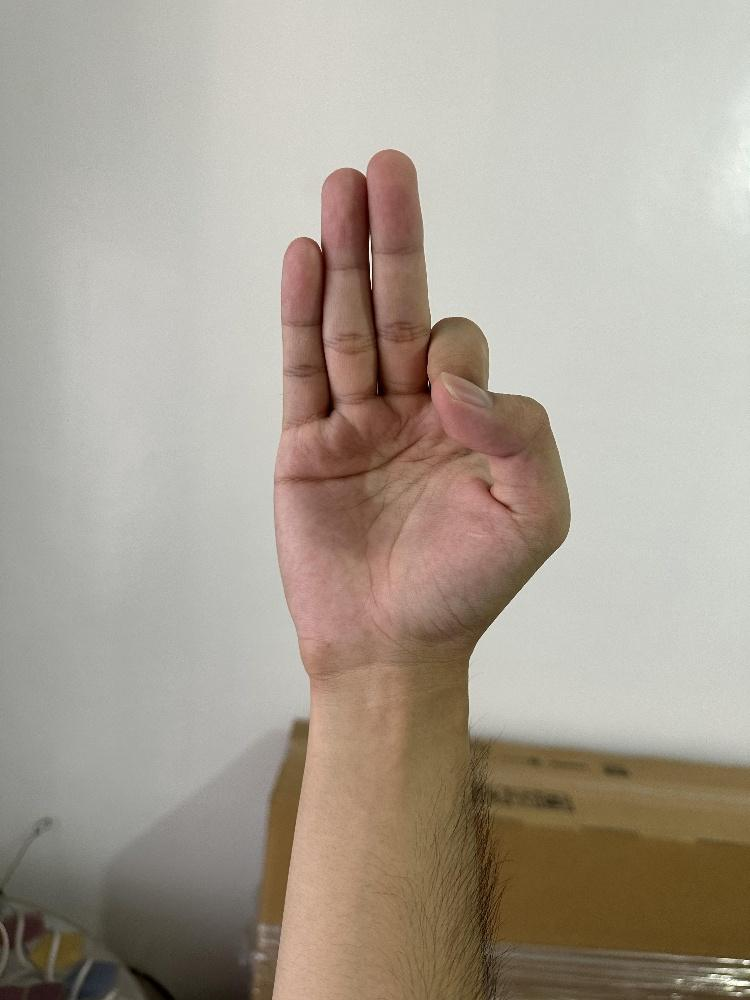f: (268, 145, 573, 677)
